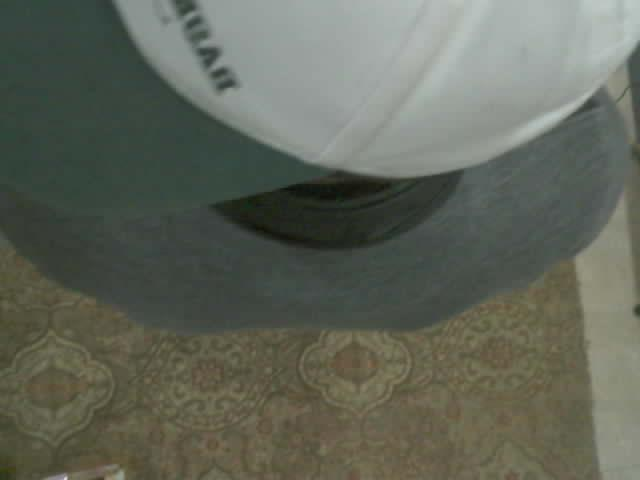cap: (0, 0, 639, 216)
